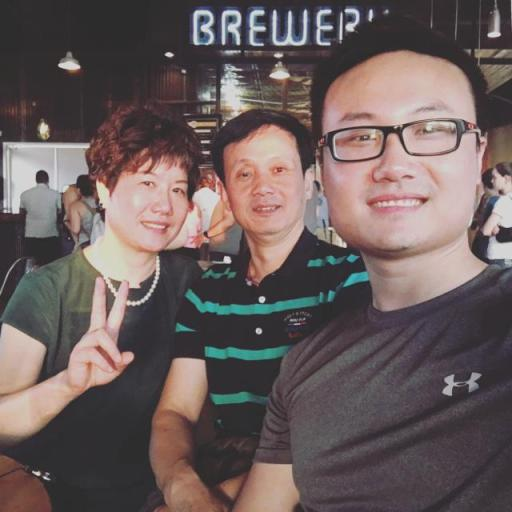Under Armour: (440, 368, 482, 398)
